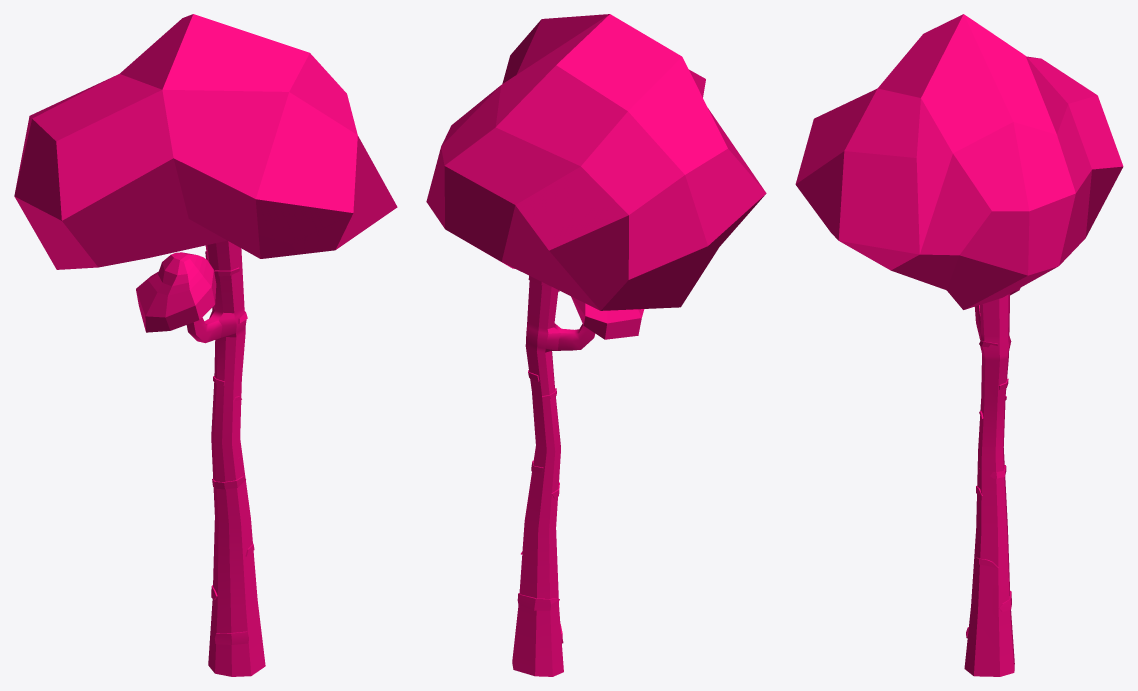
Rendered from SM_SS_Birch_1.fbx.
3 views of the same model, side by side, from view 1: azimuth 30°, elevation 25°; view 2: azimuth 150°, elevation 25°; view 3: azimuth 270°, elevation 25° (orthographic). The views are drawn at different scales.
Visible parts, largest first — view 1: SM_SS_Birch_1; view 2: SM_SS_Birch_1; view 3: SM_SS_Birch_1.
Boxes of the visible parts, x1,y1,x2,y2 form: SM_SS_Birch_1: (14, 14, 397, 676); SM_SS_Birch_1: (426, 14, 766, 676); SM_SS_Birch_1: (795, 14, 1123, 676).
Bounding box in the file's own units: 111 × 113 × 239.
